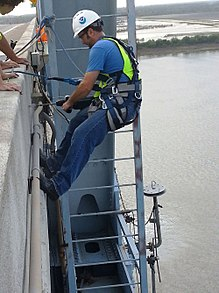Hard Hat: (71, 10, 100, 38)
High Viz: (106, 36, 141, 81)
